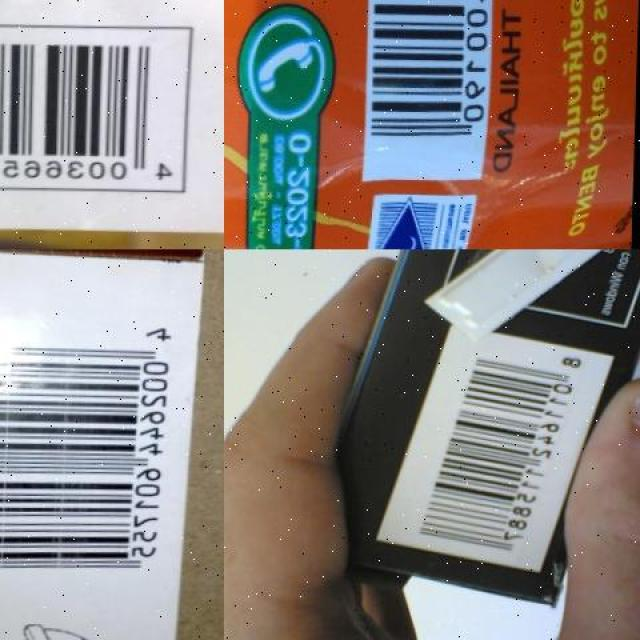Barcode: (379, 319, 612, 573), (0, 297, 184, 599), (0, 17, 192, 187), (364, 0, 495, 175)
